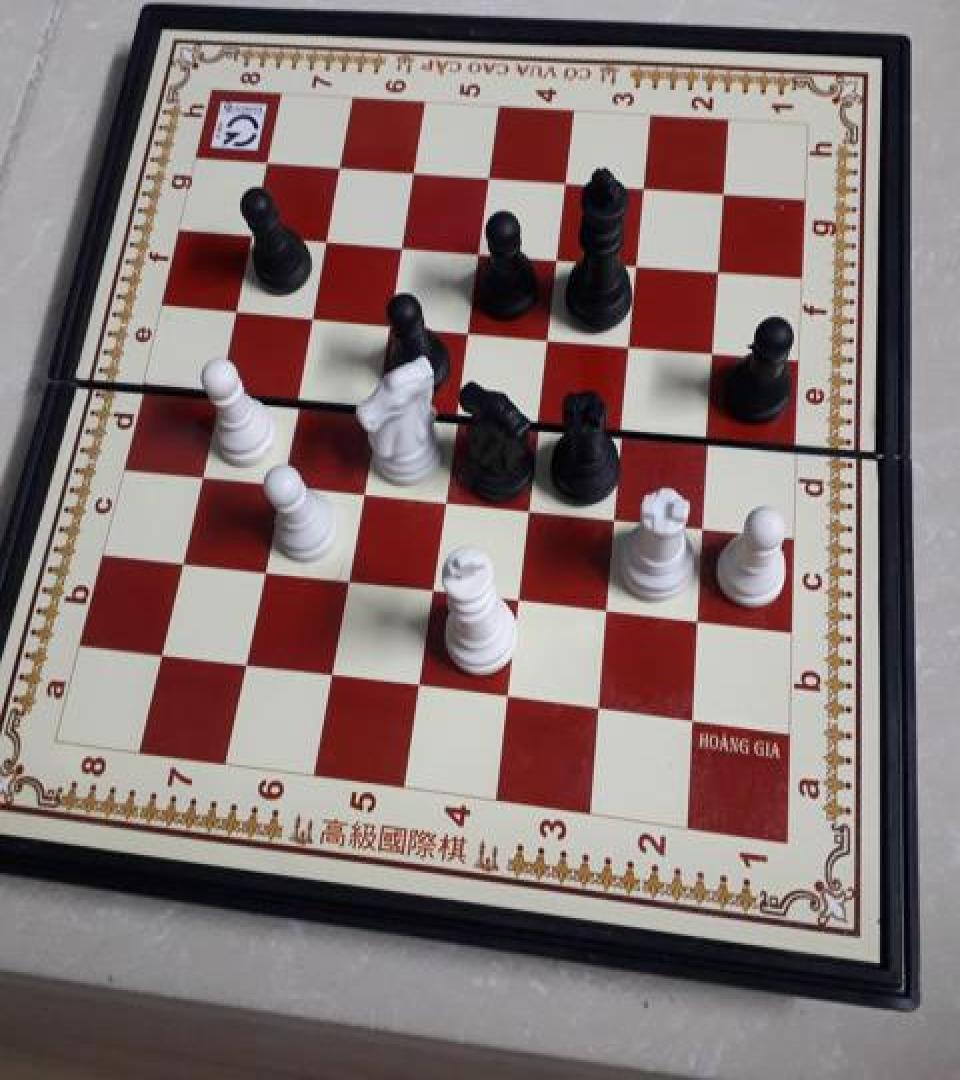xcorner: (709, 175, 739, 210), (229, 646, 259, 680), (315, 657, 345, 691), (403, 668, 433, 702), (492, 678, 522, 712), (584, 690, 614, 724), (677, 702, 707, 736), (165, 543, 195, 577), (247, 552, 277, 586), (331, 561, 361, 595), (416, 572, 446, 606), (504, 580, 534, 614), (593, 590, 623, 624), (185, 454, 215, 488), (265, 464, 295, 498), (346, 471, 376, 505), (429, 480, 459, 514), (514, 488, 544, 522), (601, 497, 631, 531), (689, 506, 719, 540), (203, 371, 233, 405), (281, 379, 311, 413), (360, 386, 390, 420), (442, 394, 472, 428), (524, 402, 554, 436), (608, 408, 638, 442), (694, 416, 724, 450), (296, 299, 326, 333), (374, 305, 404, 339), (534, 318, 564, 352), (616, 325, 646, 359), (699, 332, 729, 366), (237, 218, 267, 252), (311, 222, 341, 256), (387, 228, 417, 262), (464, 234, 494, 268), (543, 239, 573, 273), (623, 246, 653, 280), (704, 252, 734, 286), (252, 146, 282, 180), (325, 150, 355, 184), (399, 155, 429, 189), (474, 161, 504, 195), (551, 165, 581, 199), (629, 171, 659, 205), (145, 636, 175, 669), (683, 601, 713, 634), (220, 293, 250, 326), (453, 312, 483, 345)
